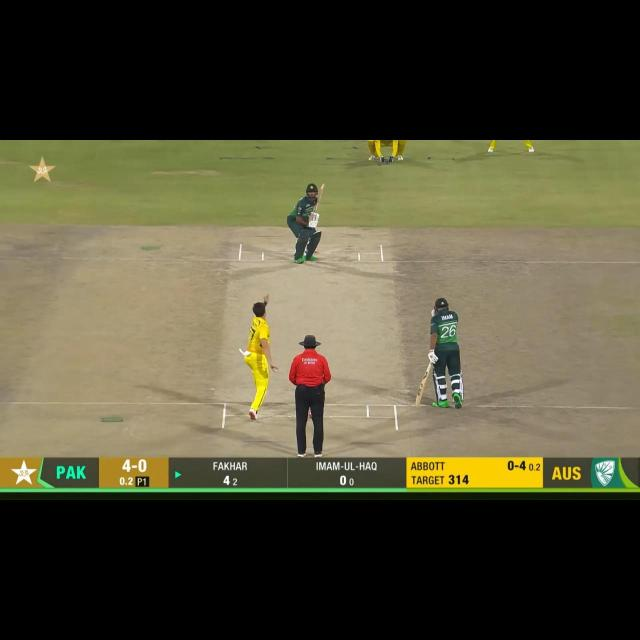bat: (414, 364, 431, 407), (312, 184, 324, 213)
toe: (413, 398, 422, 407), (318, 184, 325, 189)
